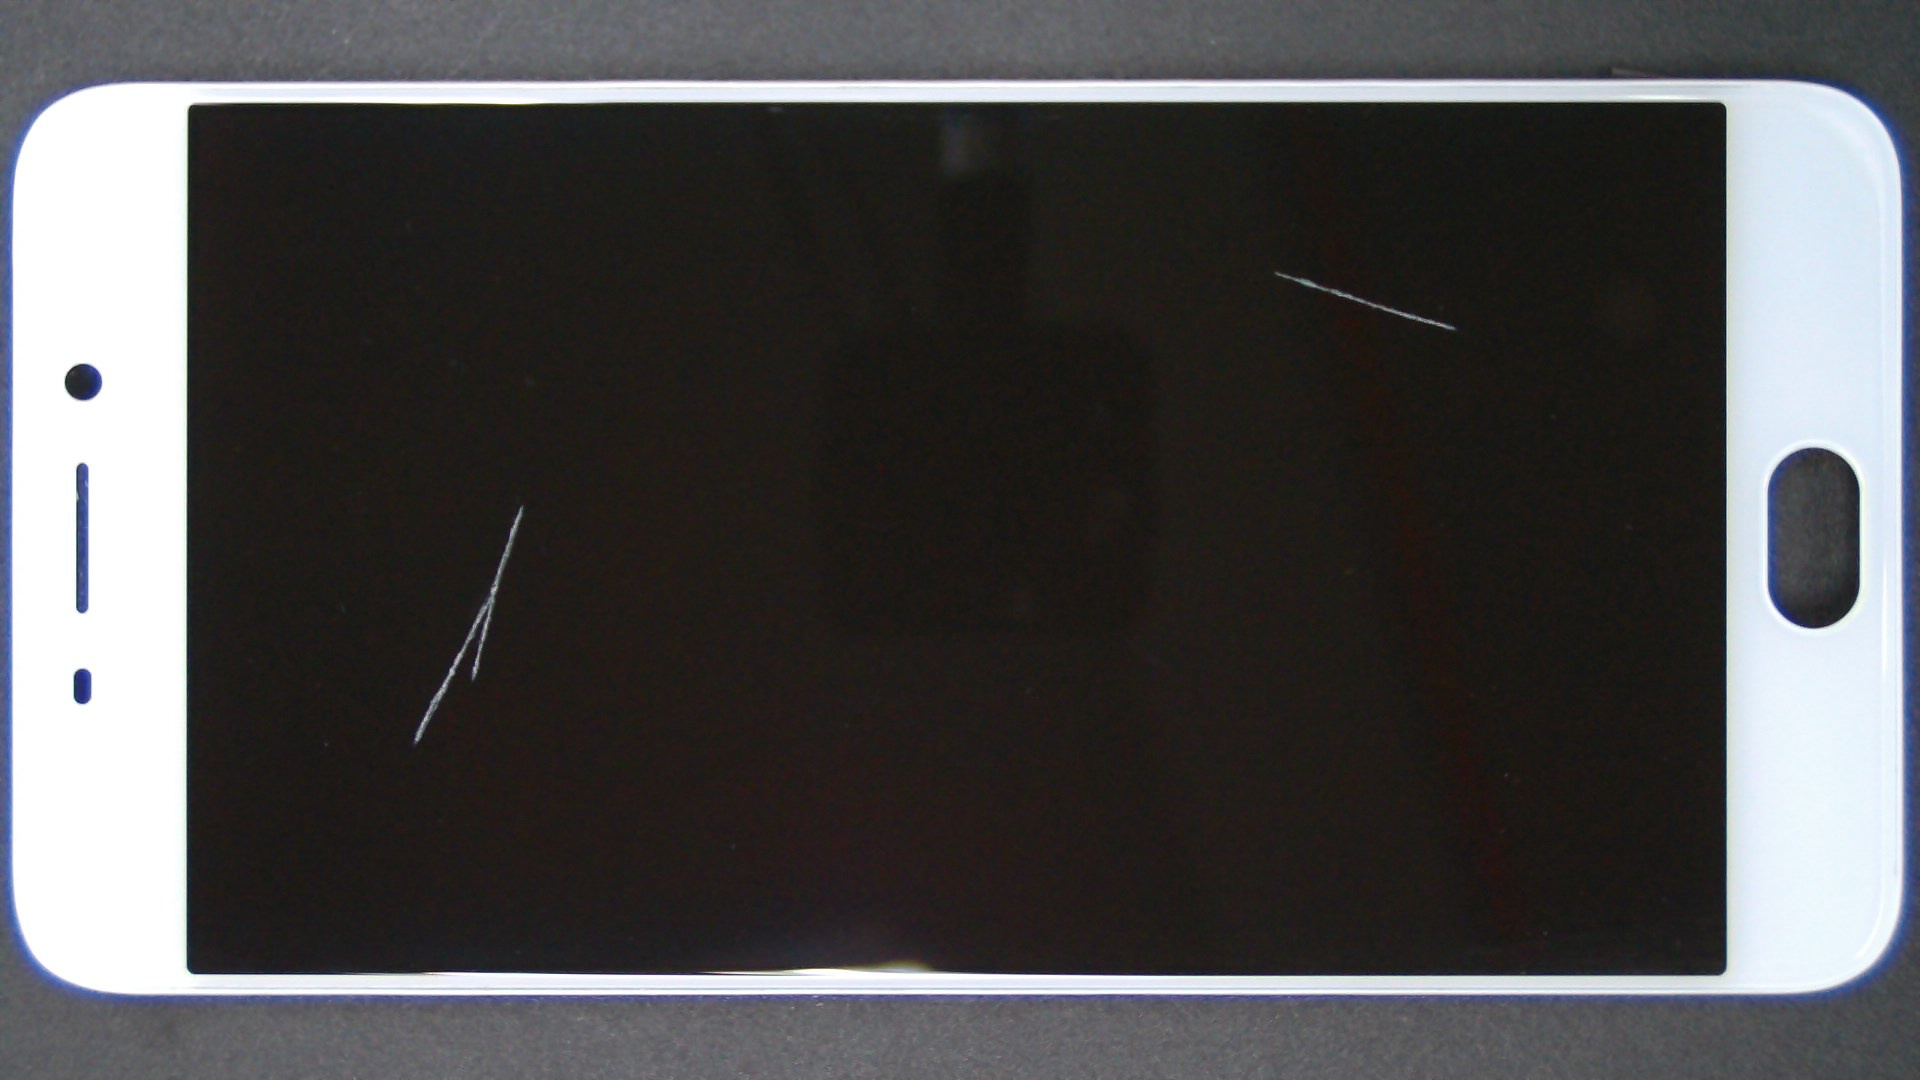oil: (638, 135, 1913, 407), (262, 252, 785, 757)
